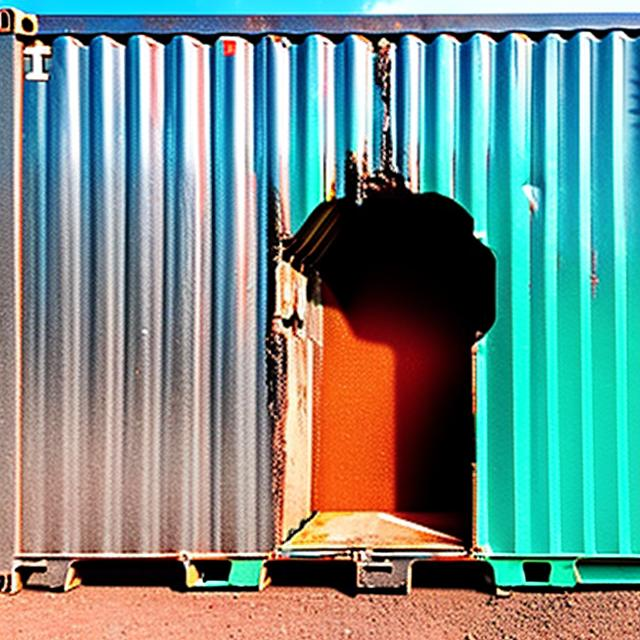hole: (255, 157, 516, 578)
